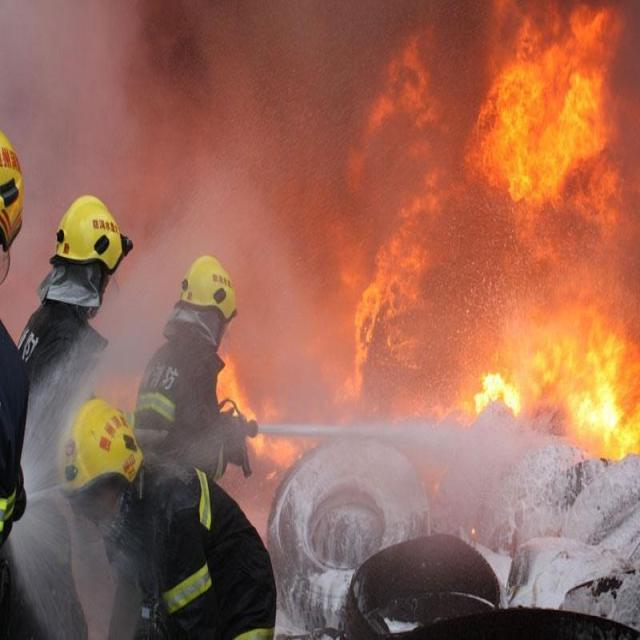Fire: (334, 35, 450, 394), (462, 6, 620, 207), (472, 307, 640, 463), (215, 350, 303, 480)
Smoke: (0, 2, 150, 272)
